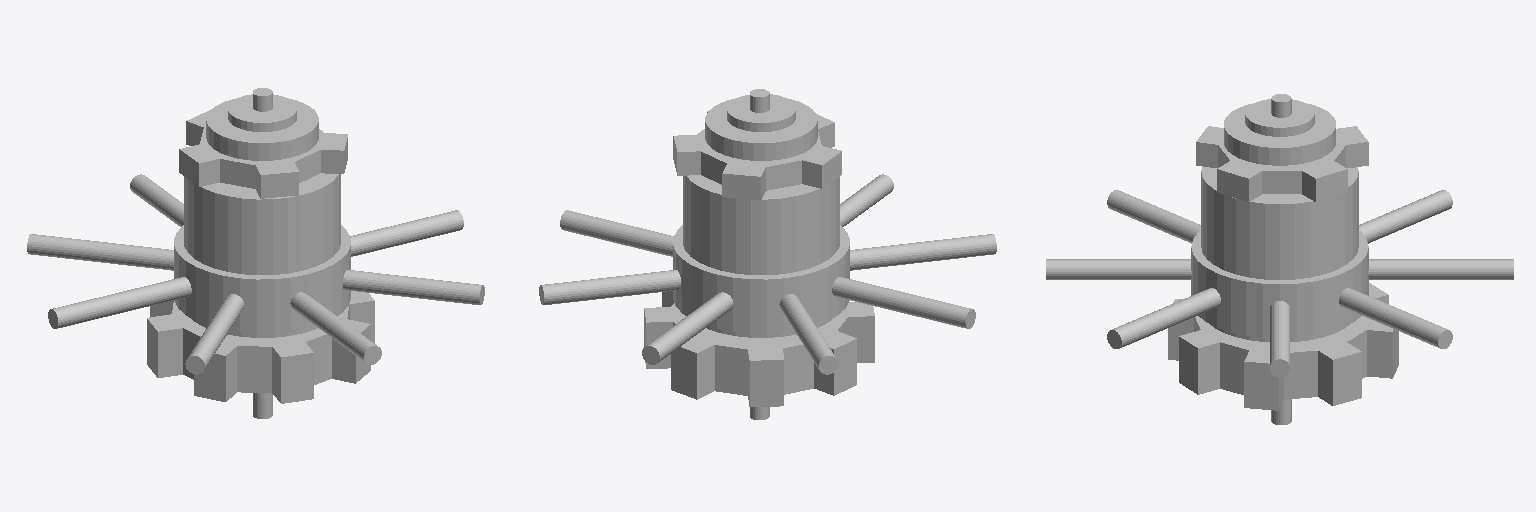
Rendered from rouage levier .obj.
3 renders of one model, left to right at view 1: azimuth 30°, elevation 25°; view 2: azimuth 150°, elevation 25°; view 3: azimuth 270°, elevation 25°, orthographic.
Visible parts, largest first — view 1: Cylindre.002, Cylindre.001, Cercle.001_Cercle.002, Cercle, Cylindre.011_Cylindre.003, Cylindre.012_Cylindre.004, Cylindre; view 2: Cylindre.002, Cercle.001_Cercle.002, Cylindre.001, Cercle, Cylindre.011_Cylindre.003, Cylindre.012_Cylindre.004, Cylindre; view 3: Cylindre.002, Cercle.001_Cercle.002, Cylindre.001, Cercle, Cylindre.011_Cylindre.003, Cylindre.012_Cylindre.004, Cylindre.
Part boxes in pixels (left/top/right/bottom): Cylindre.002: left=27, top=174, right=484, bottom=374; Cylindre.001: left=184, top=173, right=340, bottom=337; Cercle.001_Cercle.002: left=147, top=291, right=374, bottom=403; Cercle: left=179, top=109, right=347, bottom=198; Cylindre.011_Cylindre.003: left=206, top=98, right=318, bottom=160; Cylindre.012_Cylindre.004: left=228, top=94, right=296, bottom=131; Cylindre: left=253, top=88, right=272, bottom=418; Cylindre.002: left=539, top=174, right=996, bottom=374; Cercle.001_Cercle.002: left=644, top=291, right=874, bottom=406; Cylindre.001: left=683, top=175, right=839, bottom=337; Cercle: left=673, top=111, right=841, bottom=200; Cylindre.011_Cylindre.003: left=705, top=98, right=817, bottom=160; Cylindre.012_Cylindre.004: left=727, top=94, right=795, bottom=131; Cylindre: left=750, top=89, right=769, bottom=419; Cylindre.002: left=1046, top=190, right=1513, bottom=377; Cercle.001_Cercle.002: left=1168, top=283, right=1398, bottom=410; Cylindre.001: left=1201, top=166, right=1358, bottom=341; Cercle: left=1196, top=126, right=1368, bottom=201; Cylindre.011_Cylindre.003: left=1224, top=103, right=1335, bottom=165; Cylindre.012_Cylindre.004: left=1245, top=99, right=1314, bottom=136; Cylindre: left=1271, top=94, right=1291, bottom=424.
Bounding box in the file's own units: 6.51 × 4.96 × 6.51.